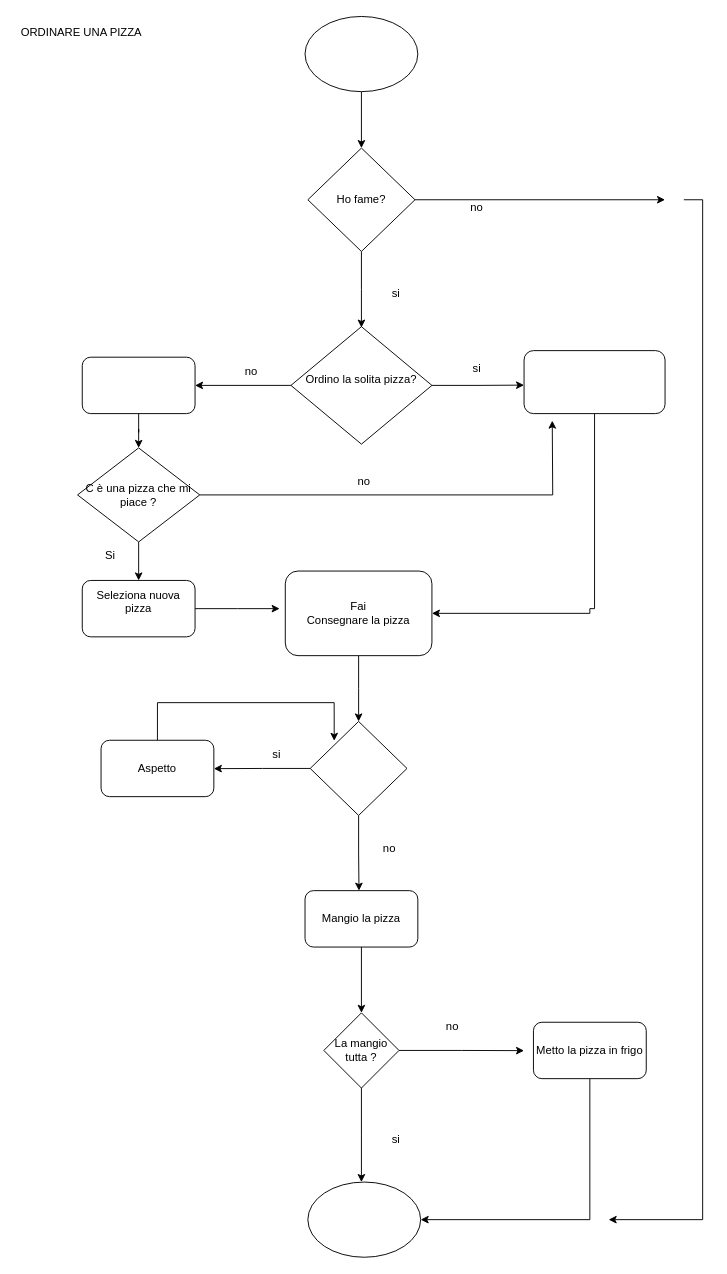
Some shapes in this 727 by 1274 pixel diagram are drawn without their labels. The shapes that lost their labels are listed below. From the top down, each one's centre as x and y in pixels, then its label:
point (361, 54): START
point (138, 385): Apro lista pizze
point (594, 382): Seleziono Prociutto e funghi
point (358, 768): La pizza è bollente?
point (364, 1219): FINE
